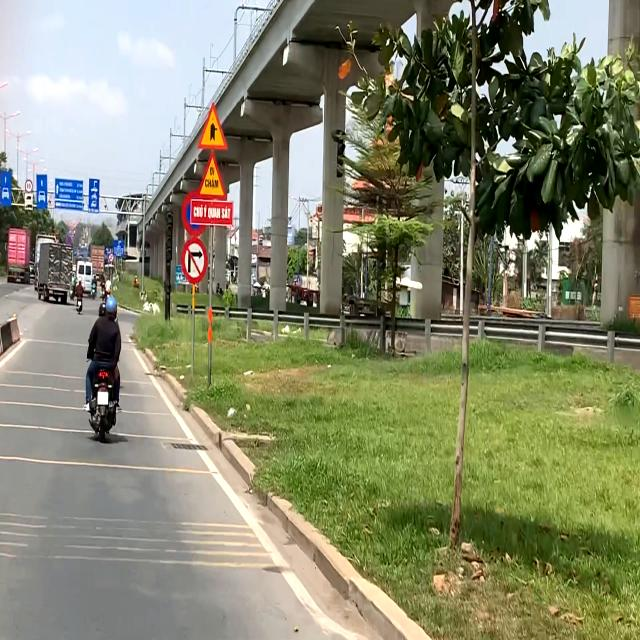P.123b: (181, 237, 206, 283)
W.207b: (197, 101, 229, 151)
W.245a: (196, 151, 228, 201)
